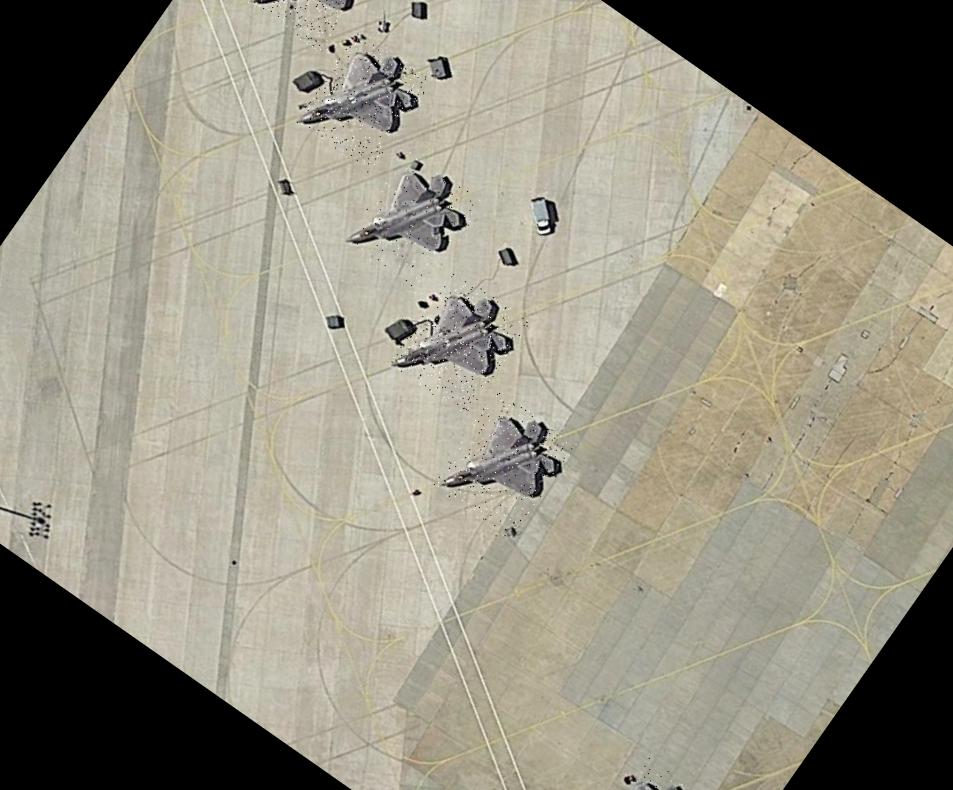A15: (430, 388, 578, 541), (388, 268, 531, 416), (342, 148, 484, 296), (294, 28, 432, 172), (244, 0, 384, 52), (577, 754, 719, 790)
